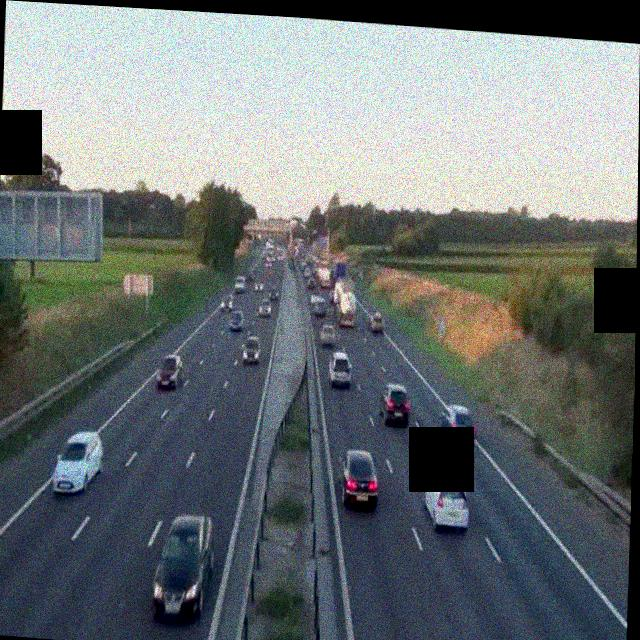car: (152, 512, 214, 622), (51, 427, 103, 494), (423, 468, 468, 530), (339, 449, 379, 510), (440, 402, 476, 446), (379, 380, 410, 427), (156, 354, 183, 391), (328, 349, 352, 387), (242, 334, 261, 365), (320, 321, 336, 346), (369, 310, 384, 333), (229, 307, 244, 330), (312, 295, 325, 315), (259, 298, 271, 318), (269, 285, 280, 302), (235, 275, 246, 292), (221, 293, 231, 310)
truck: (332, 278, 356, 326), (318, 253, 334, 283), (332, 257, 346, 286)
